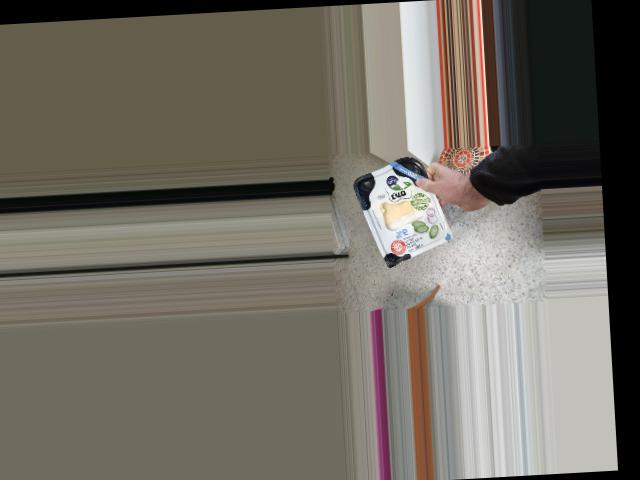cheese: (364, 166, 442, 258)
